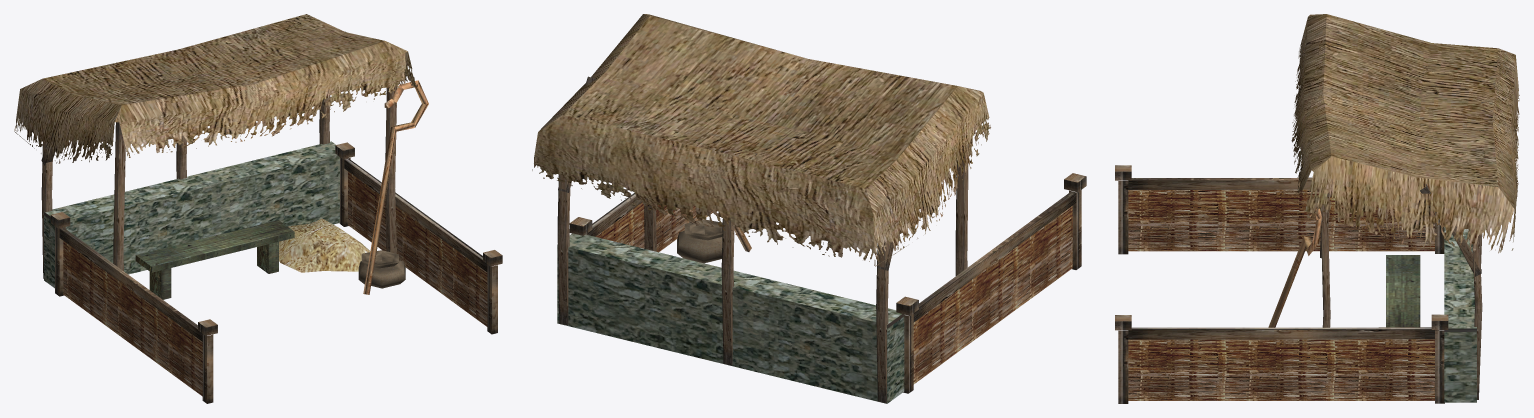
File: building_farm_sheep.glb
3 renders of one model, left to right at view 1: azimuth 30°, elevation 25°; view 2: azimuth 150°, elevation 25°; view 3: azimuth 270°, elevation 25°, orthographic. The views are drawn at different scales.
Visible parts, largest first — view 1: building_farm_sheep; view 2: building_farm_sheep; view 3: building_farm_sheep.
Part boxes in pixels (box(x1,y1,x2,y2)): building_farm_sheep: box(14, 14, 502, 403); building_farm_sheep: box(532, 14, 1086, 403); building_farm_sheep: box(1115, 14, 1519, 403).
Bounding box in the file's own units: 4.6 × 3.14 × 4.57.
Materials: 8 (8 with a texture image).
